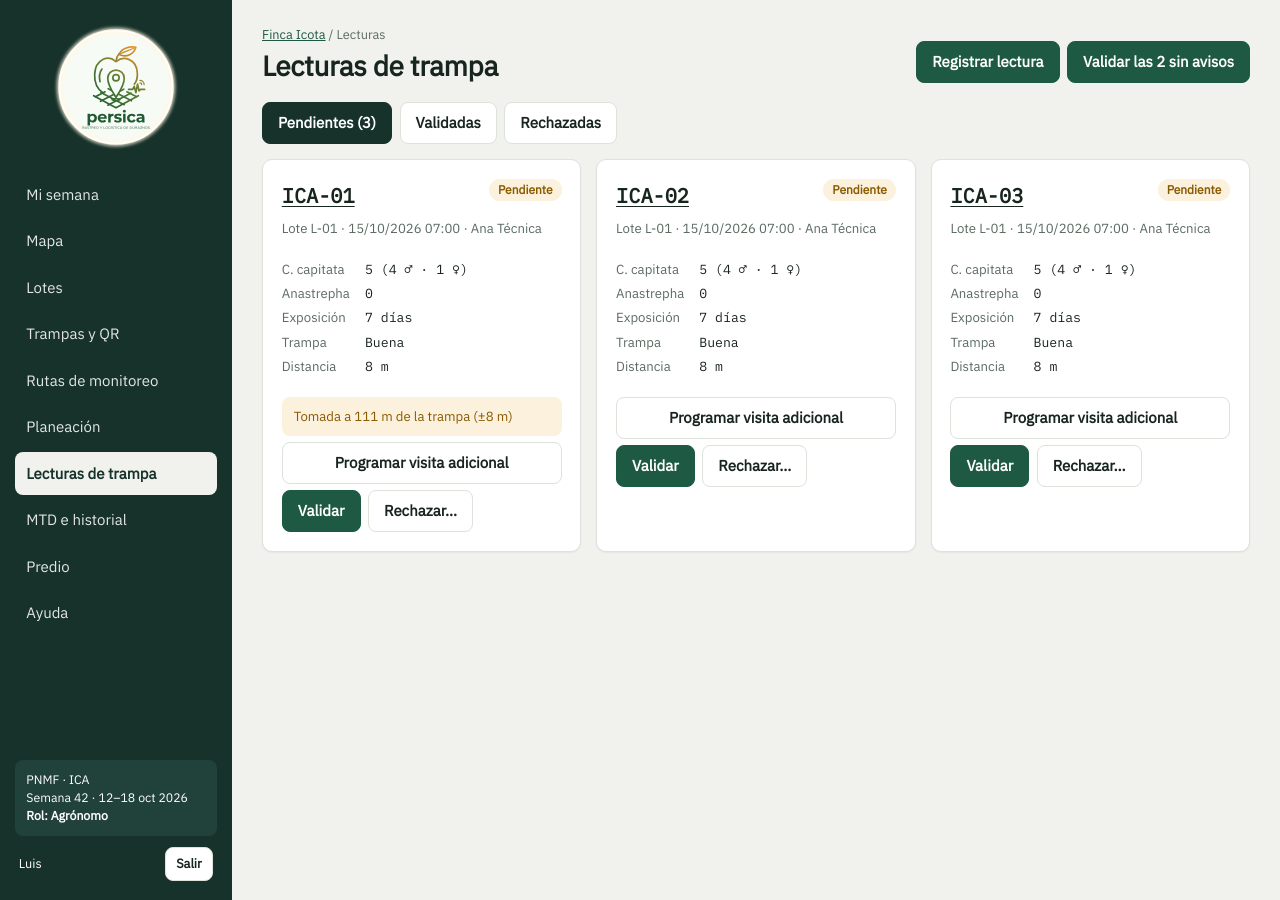
Test: VistaLecturas › muestra las pendientes con sus avisos y permite rechazar con motivo
Expected: the list item with aria-label "Lectura de ICA-01" shows "Tomada a 111 m de la trampa (±8 m)", [294,407,513,425]
Expected: the list item with aria-label "Lectura de ICA-01" shows "5 (4 ♂ · 1 ♀)", [262,159,581,552]
Click the button "Rechazar…" below "ICA-01" at (420, 511), box [368,490,473,532]
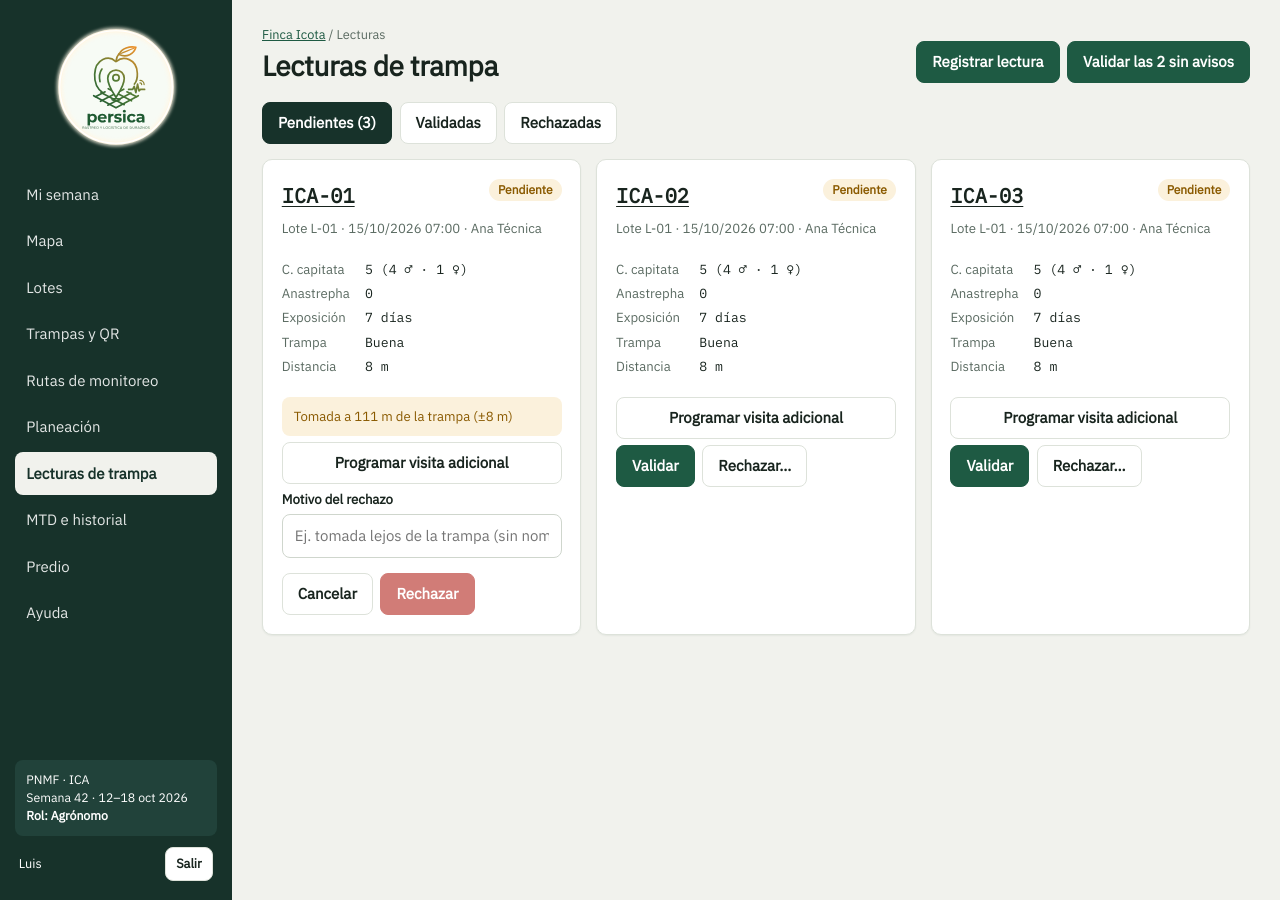
Expected: the button "Rechazar" is disabled, [380,573,475,615]
Type "Lejos de la trampa" into the field labelled "Motivo del rechazo" at (422, 536), box [282,514,562,558]
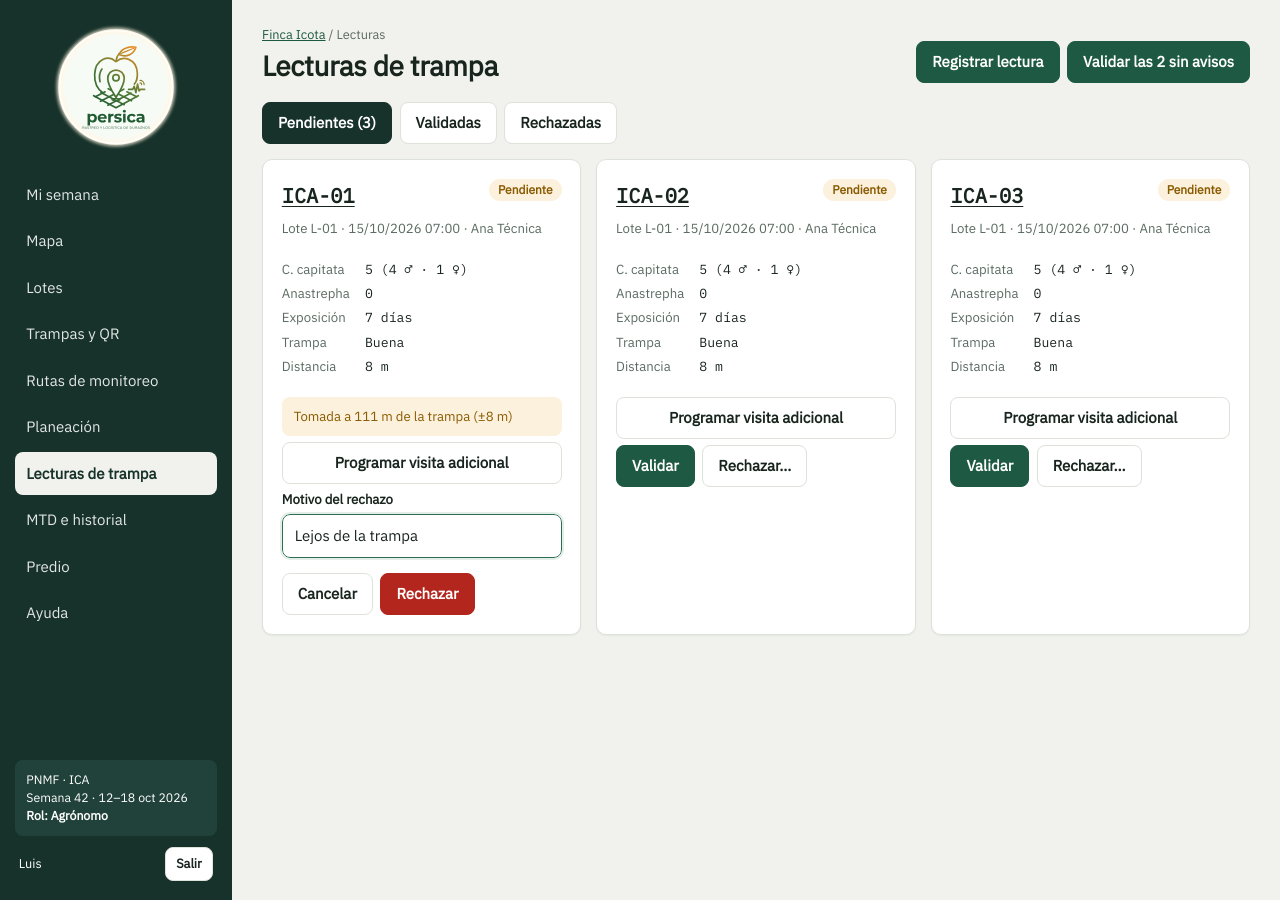
Click the button "Rechazar" at (428, 594), box [380,573,475,615]
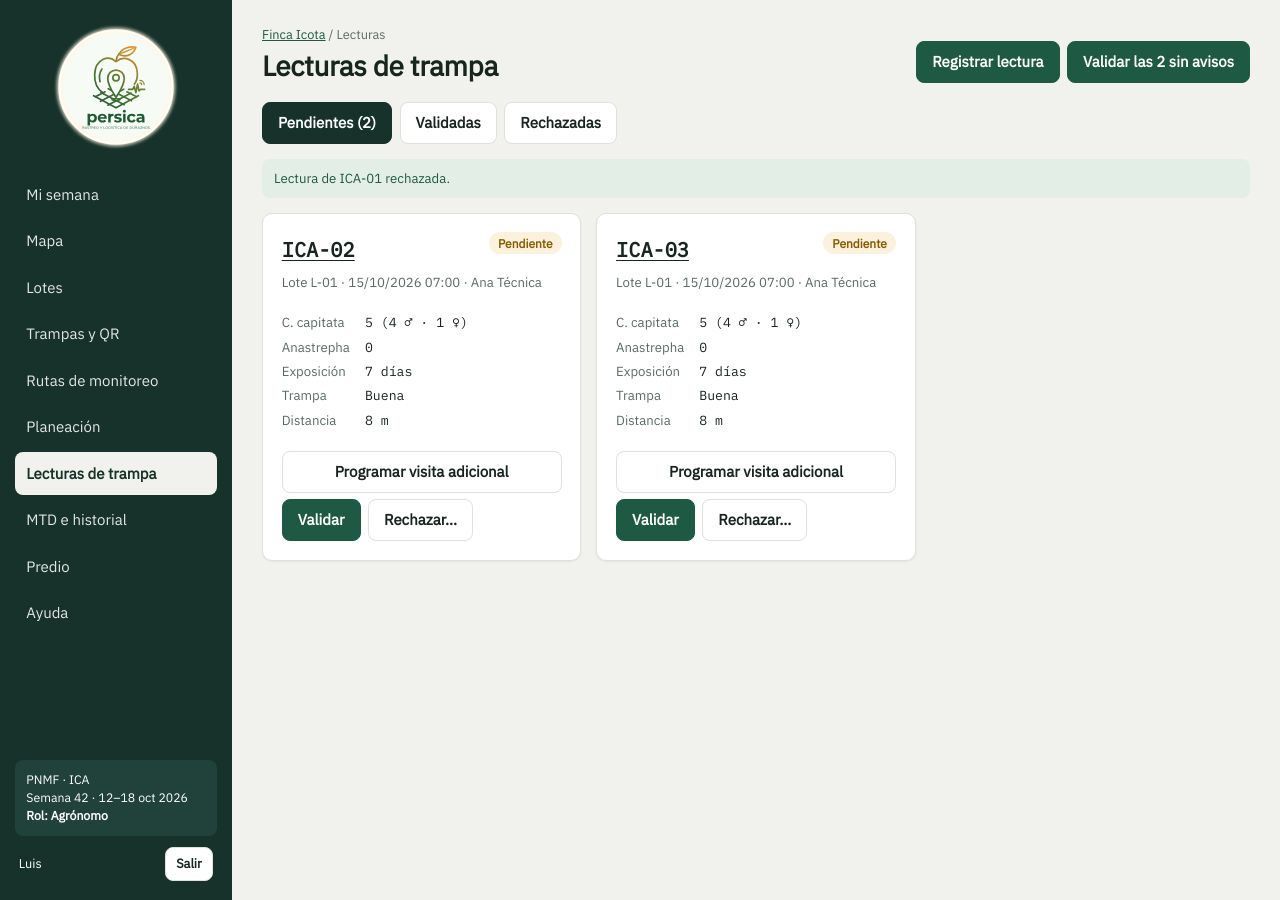
Expected: the text "Lectura de ICA-01 rechazada." is shown, [262,159,1250,198]
